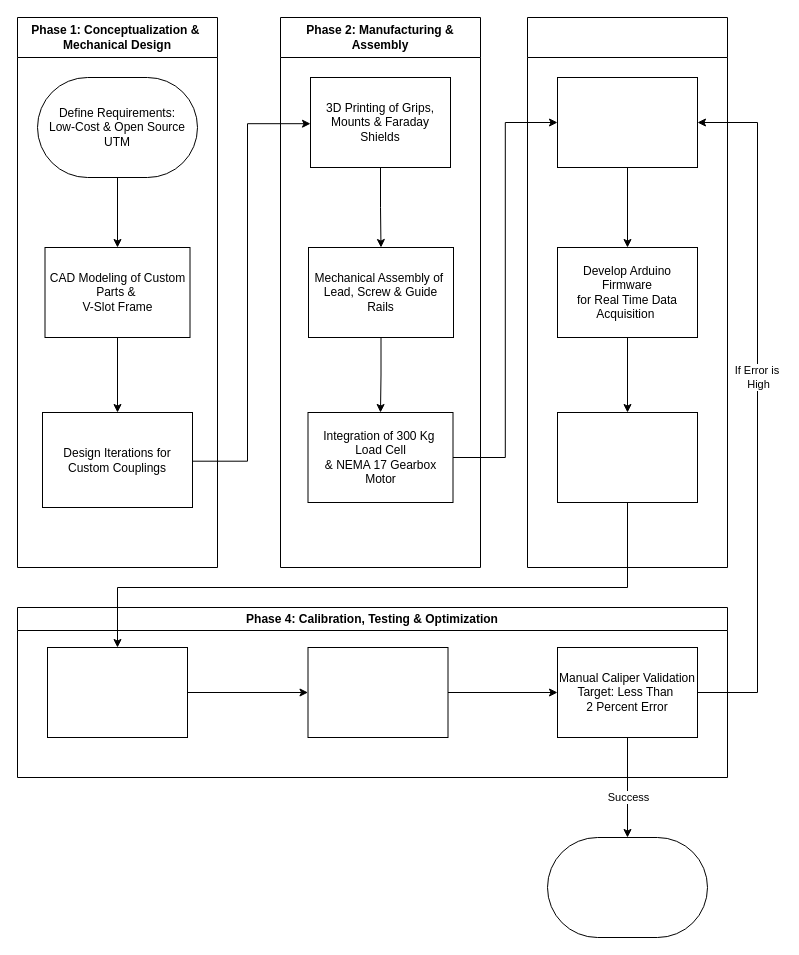
Image size: 799x955. Some labels were removed from this diagram. The box of each missing label's shape, as (x1, y1, x2, y2) in pixels:
Arduino Mega 2560 & CWD 556 Driwer Integration: (556, 76, 698, 168)
Conduct PLA Filament Tensile Tests: (307, 646, 448, 738)
Design Phyton GUI for Stress-Strain Visualization: (556, 412, 698, 502)
Phase 3: Electronics & Software Development: (526, 16, 728, 568)
Project Finalization & Academic Reporting: (546, 836, 708, 938)
System Calibration: Load Cell Taring & Step Matching: (46, 646, 188, 738)
